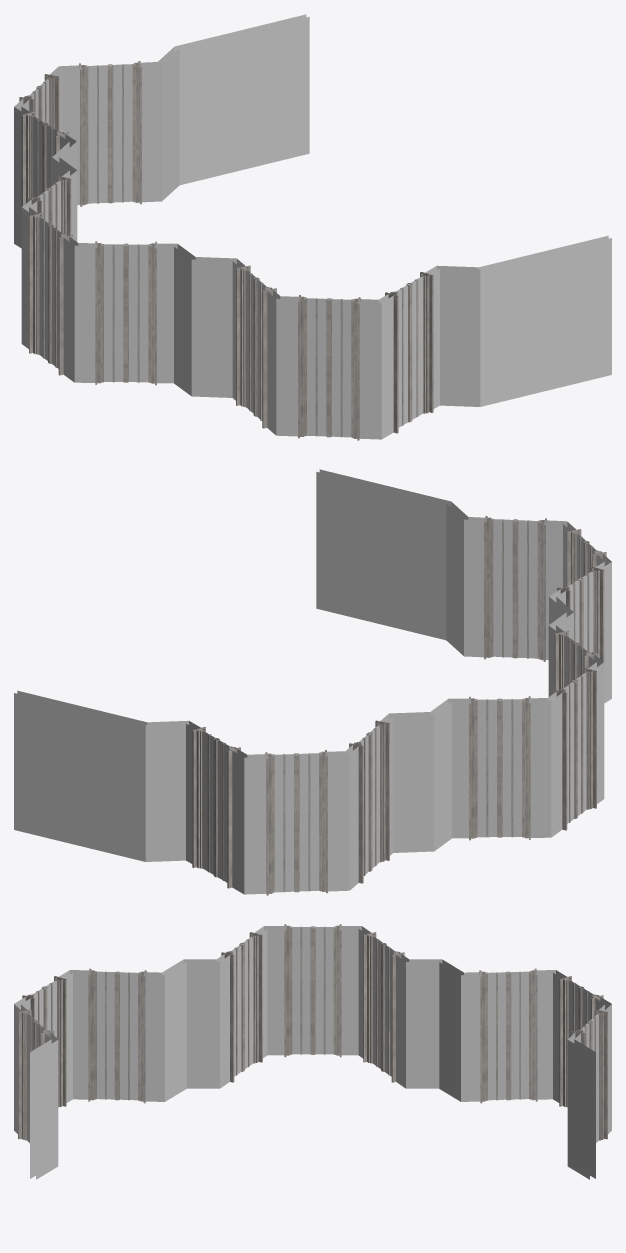
The model's file is Ambulatory_Outer_C_D.fbx.
The picture shows the model from 3 angles, top to bottom: view 1: azimuth 30°, elevation 25°; view 2: azimuth 150°, elevation 25°; view 3: azimuth 270°, elevation 25°; orthographic projection. The views are drawn at different scales.
Parts seen in each view (by area): view 1: Ambulatory_Outer_C_D; view 2: Ambulatory_Outer_C_D; view 3: Ambulatory_Outer_C_D.
Boxes of the visible parts, left/top/right/bottom form: Ambulatory_Outer_C_D: left=14, top=14, right=611, bottom=440; Ambulatory_Outer_C_D: left=14, top=469, right=611, bottom=895; Ambulatory_Outer_C_D: left=14, top=924, right=611, bottom=1179.
Size of the model in its own units: 19.02 by 25.64 by 6.
